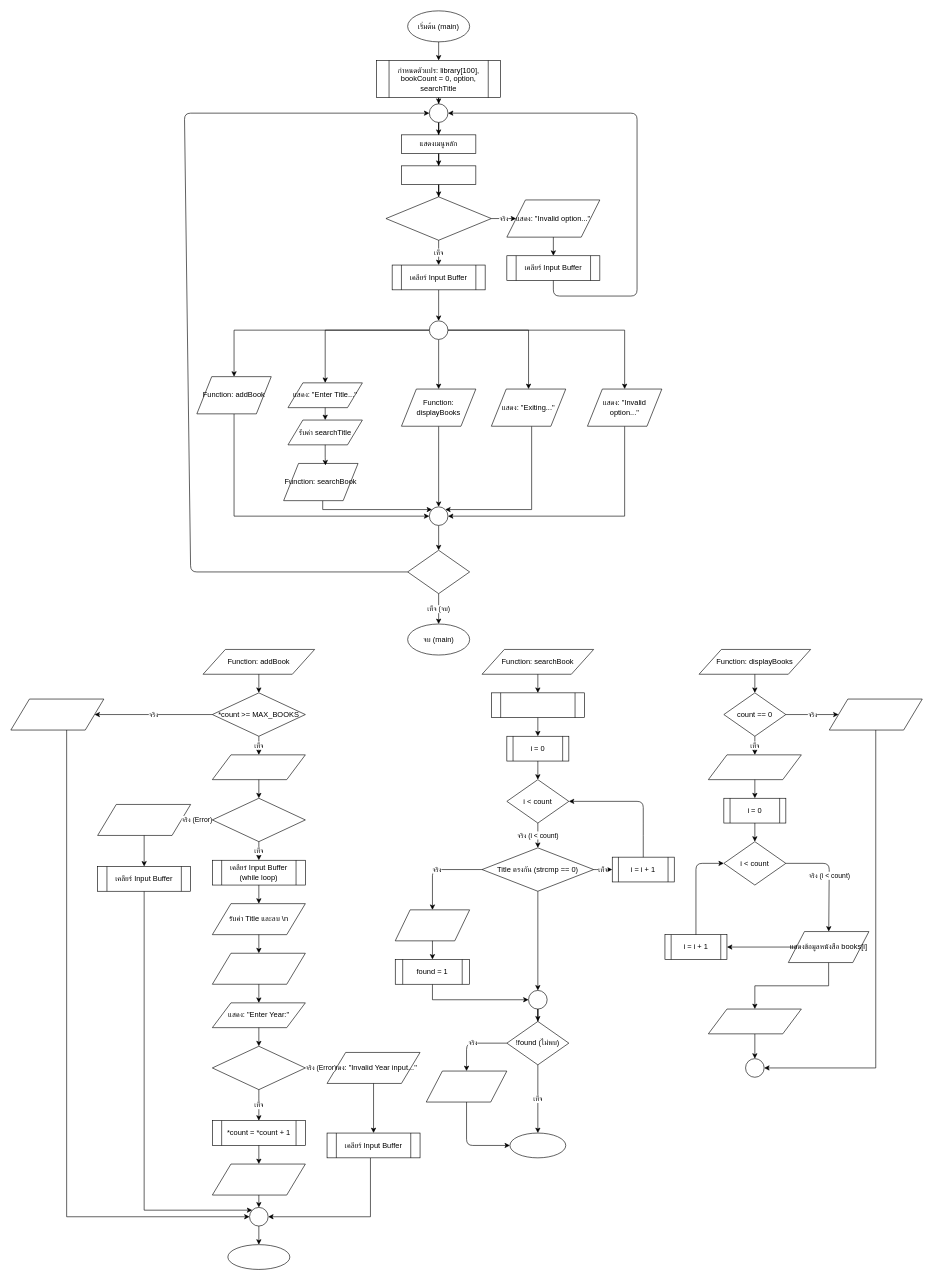
The diagram is 933 pixels wide and 1280 high, and some of its shapes have lost their labels. The box of each missing label's shape, as (x1, y1, x2, y2) in pixels:
found = 0, ลบ \n ออกจาก title: (491, 692, 584, 718)
option != 4: (407, 550, 470, 594)
scanf ID != 1: (212, 798, 305, 842)
scanf Year != 1: (212, 1046, 305, 1090)
scanf("%d", &option) != 1: (385, 196, 491, 240)
จบ (addBook): (227, 1244, 290, 1269)
จบ (searchBook): (509, 1132, 566, 1158)
รับค่า Author และลบ \n: (212, 953, 305, 984)
รับค่า option: (401, 165, 476, 184)
แสดง: "Book added successfully!": (212, 1163, 305, 1195)
แสดง: "Book not found.": (426, 1070, 507, 1102)
แสดง: "Enter Book ID:": (212, 754, 305, 780)
แสดง: "Invalid Book ID...": (97, 804, 191, 835)
แสดง: "The library is empty...": (829, 698, 922, 730)
แสดง: "The library is full...": (10, 698, 104, 730)
แสดง: Footer: (708, 1008, 801, 1034)
แสดง: Header: (708, 754, 801, 780)
แสดงข้อมูลหนังสือ: (395, 909, 470, 941)
